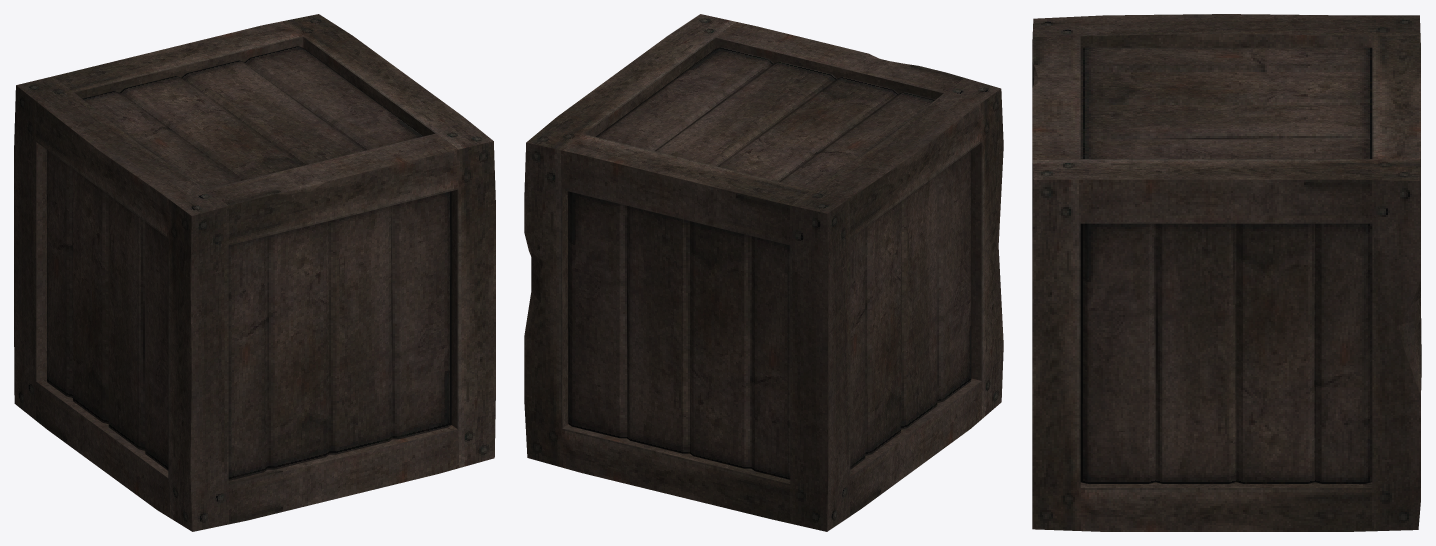
Rendered from wooden_crate_2.glb.
The picture shows the model from 3 angles, left to right: view 1: azimuth 30°, elevation 25°; view 2: azimuth 150°, elevation 25°; view 3: azimuth 270°, elevation 25°; orthographic projection. The views are drawn at different scales.
Parts seen in each view (by area): view 1: wooden_crate_2; view 2: wooden_crate_2; view 3: wooden_crate_2.
Part boxes in pixels (x1,y1,x2,y2): wooden_crate_2: (14, 14, 495, 531); wooden_crate_2: (524, 14, 1003, 531); wooden_crate_2: (1032, 14, 1421, 531).
Bounding box in the file's own units: 1.09 × 1.08 × 1.08.
1 material, 1 textured.
